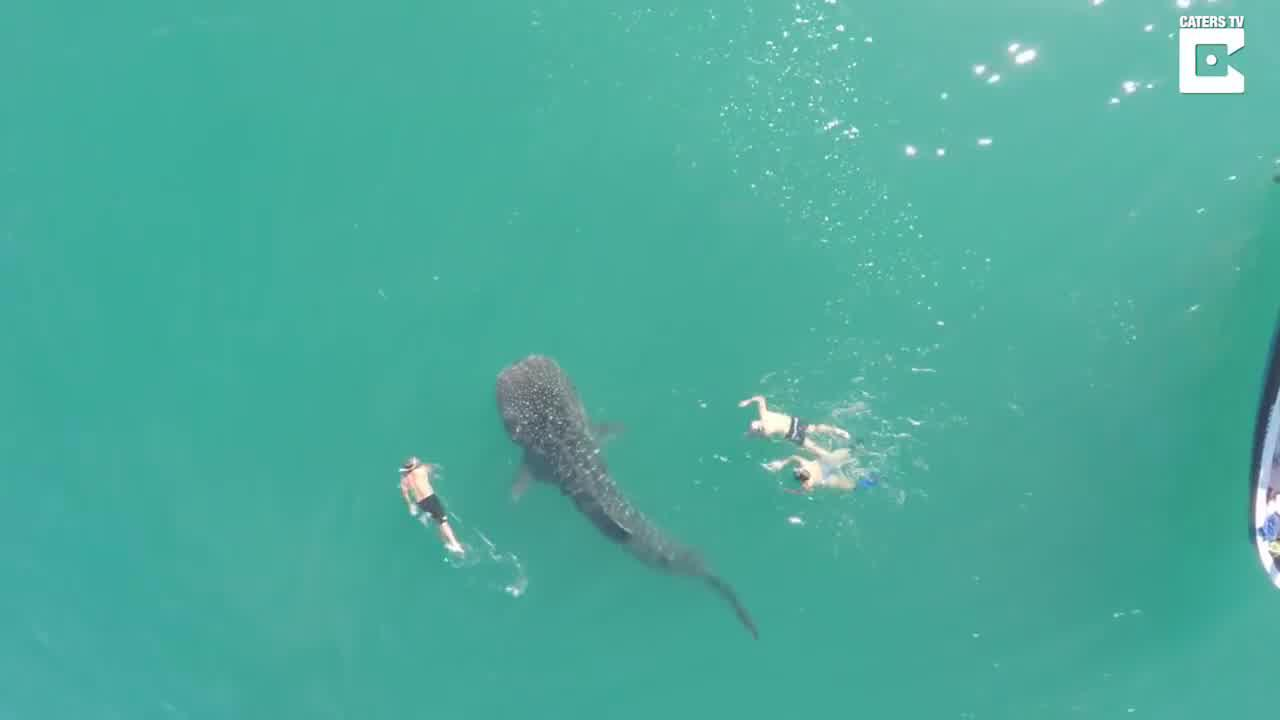swimmer: (380, 450, 483, 558), (724, 390, 857, 451), (765, 455, 884, 500)
